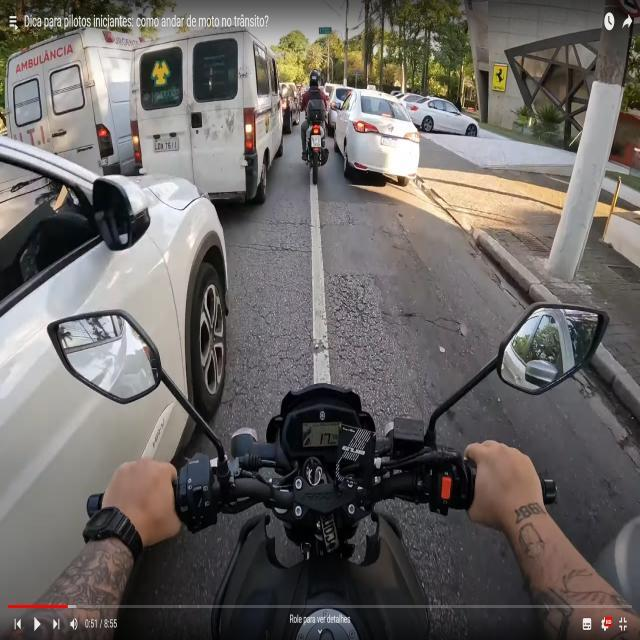Placa_mercosul_carro: (152, 135, 180, 154), (380, 137, 400, 148)
placa_moto: (311, 134, 322, 150)
